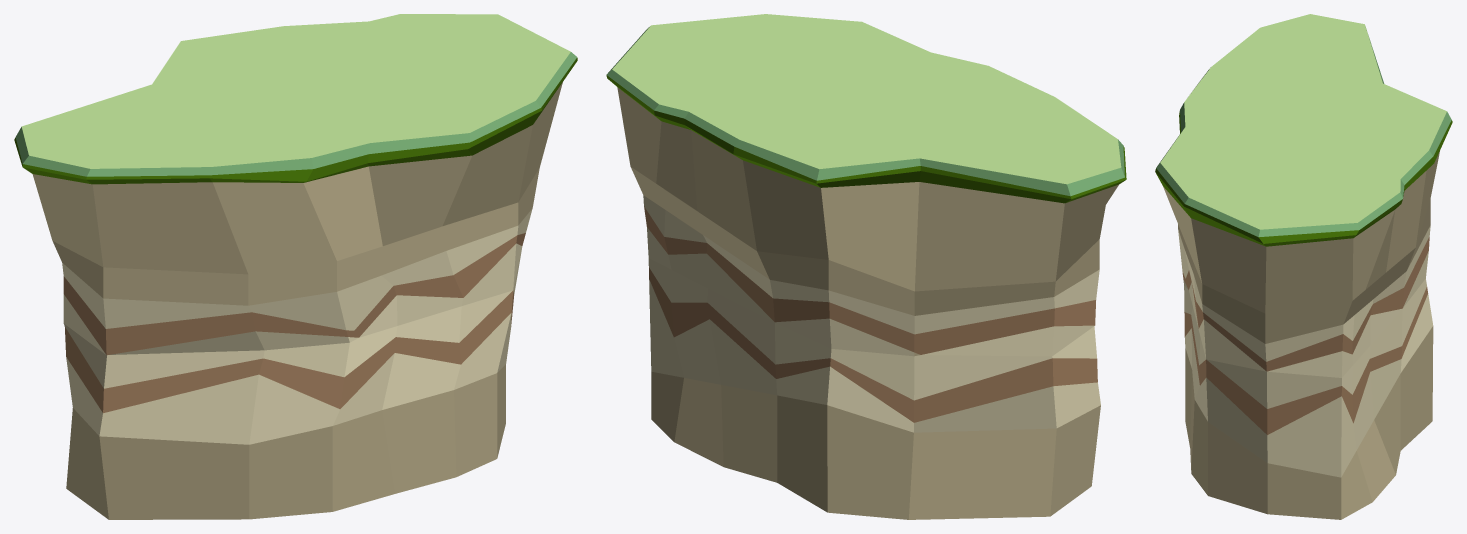
The model's file is cliff4.fbx.
3 views of the same model, side by side, from view 1: azimuth 30°, elevation 25°; view 2: azimuth 150°, elevation 25°; view 3: azimuth 270°, elevation 25° (orthographic). The views are drawn at different scales.
Visible parts, largest first — view 1: Cylinder; view 2: Cylinder; view 3: Cylinder.
Boxes of the visible parts, bbox=[...] form: Cylinder: bbox=[14, 14, 577, 519]; Cylinder: bbox=[606, 14, 1126, 519]; Cylinder: bbox=[1155, 14, 1452, 519].
Size of the model in its own units: 441 by 287 by 250.
